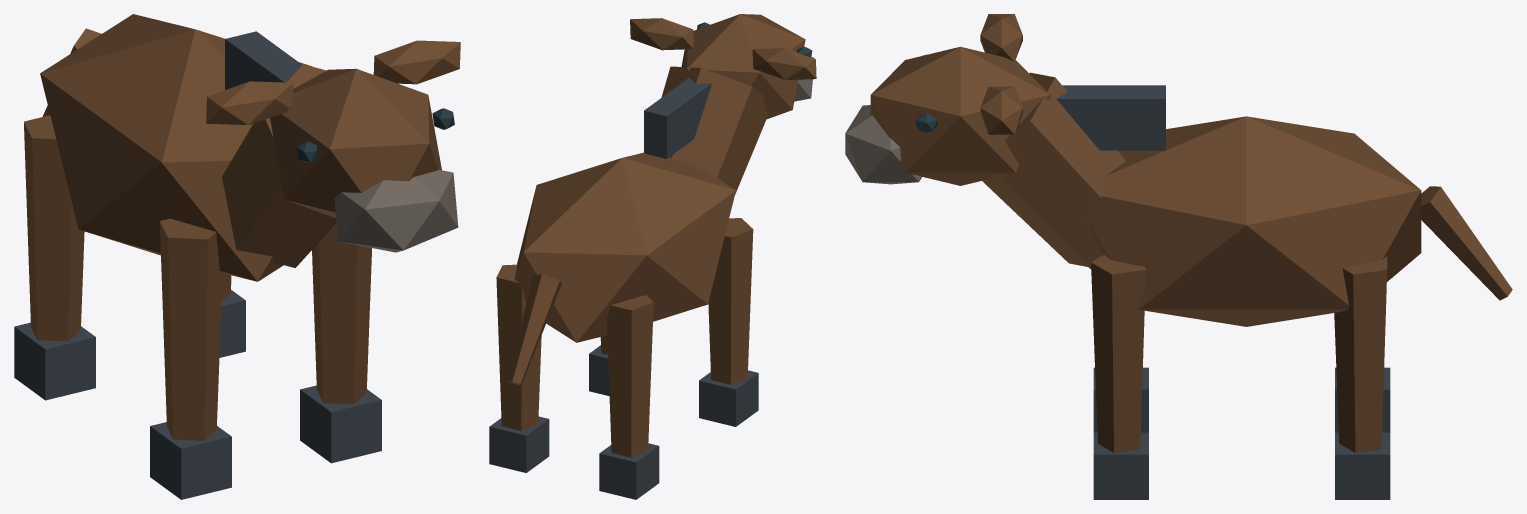
Rendered from res_horses.glb.
3 views of the same model, side by side, from view 1: azimuth 30°, elevation 25°; view 2: azimuth 150°, elevation 25°; view 3: azimuth 270°, elevation 25° (orthographic). The views are drawn at different scales.
Parts seen in each view (by area): view 1: res_horses; view 2: res_horses; view 3: res_horses.
Boxes of the visible parts, <box> form: res_horses: <box>14,14,460,499</box>; res_horses: <box>489,14,816,499</box>; res_horses: <box>845,14,1512,499</box>.
Size of the model in its own units: 0.1461 by 0.253 by 0.3735.
